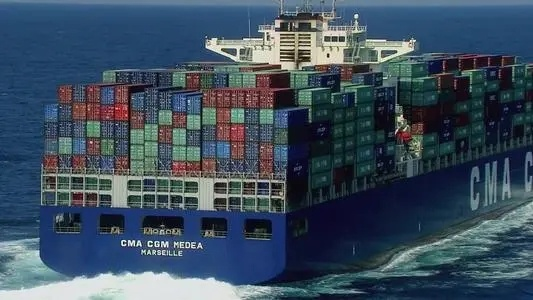Cargoship: (30, 9, 533, 273)
